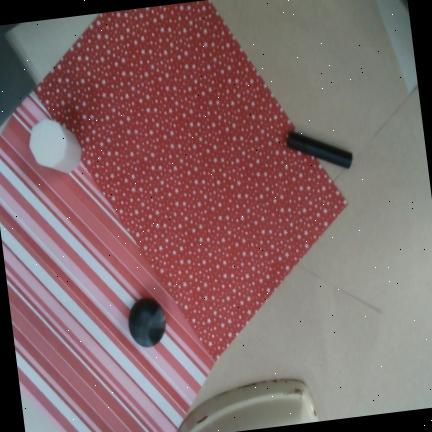Cilindro: (286, 130, 353, 169)
Esfera: (128, 297, 166, 346)
Prisma_hexagonal: (29, 118, 81, 172)
